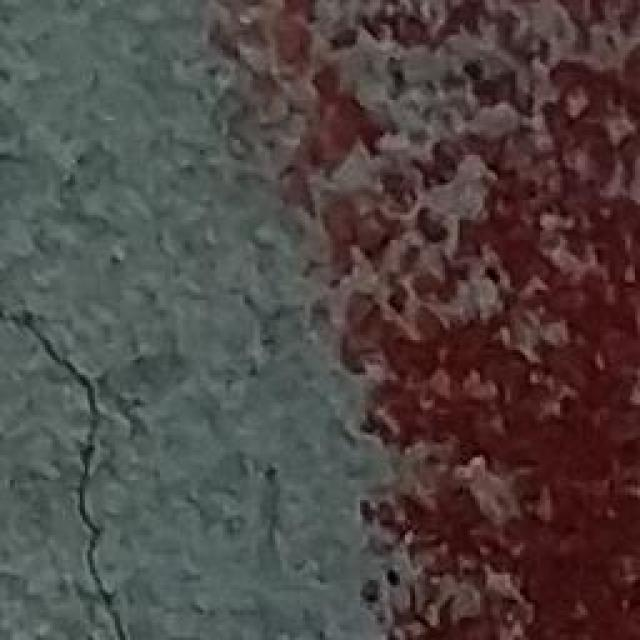Longitudinal: (0, 292, 145, 640)
